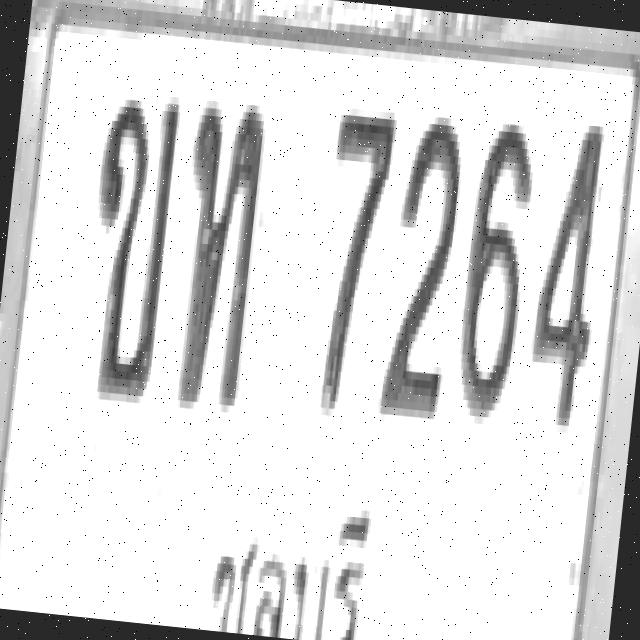11KhorKhai: (75, 90, 182, 404)
2: (377, 106, 468, 419)
32ThorThaHan: (166, 91, 272, 414)
4: (522, 114, 611, 434)
6: (450, 114, 538, 419)
7: (306, 99, 398, 419)
Chonburi: (188, 471, 385, 640)
